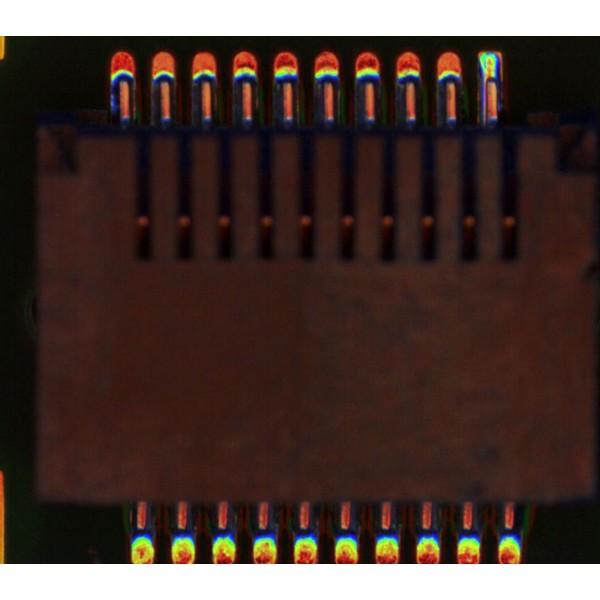Bad_qiaojiao: (480, 83, 487, 122)
